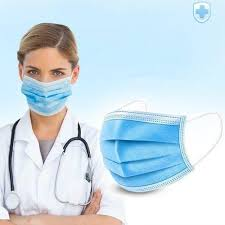mask: (19, 30, 74, 118)
